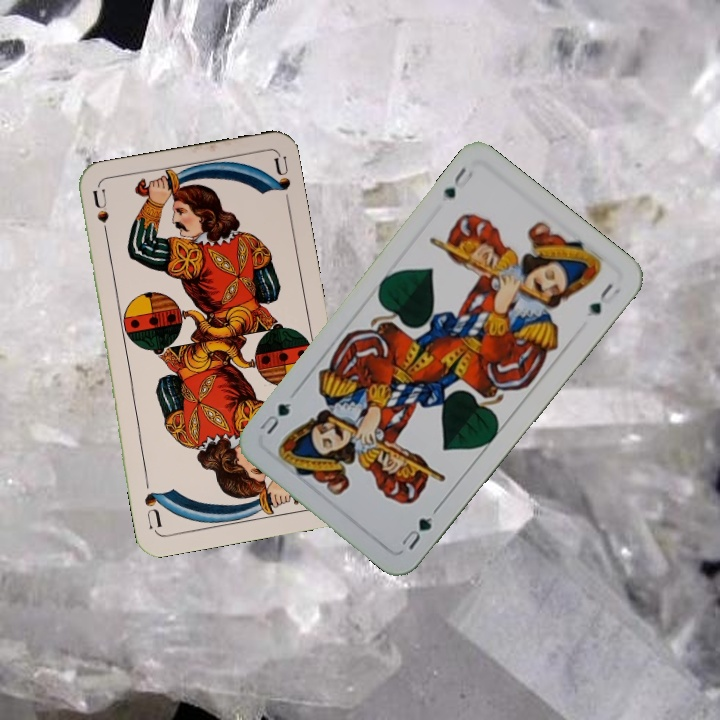GU: (397, 513, 435, 553), (438, 163, 476, 202)
SU: (87, 186, 112, 245)
